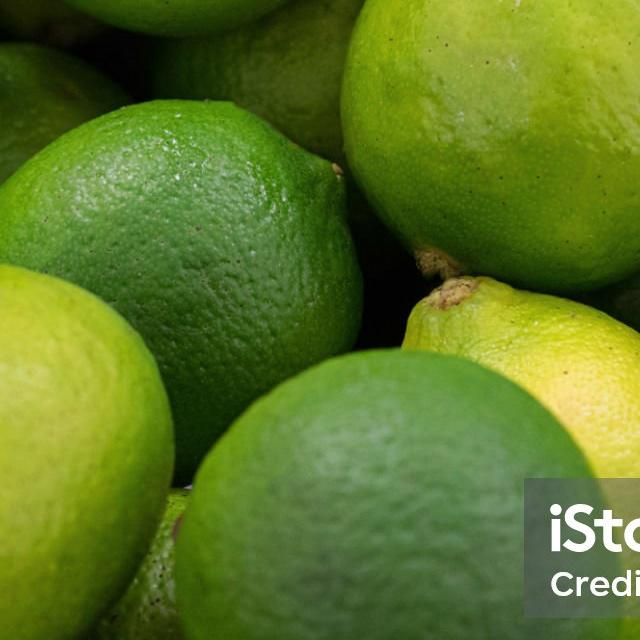lime: (339, 0, 640, 290), (0, 265, 177, 640)
